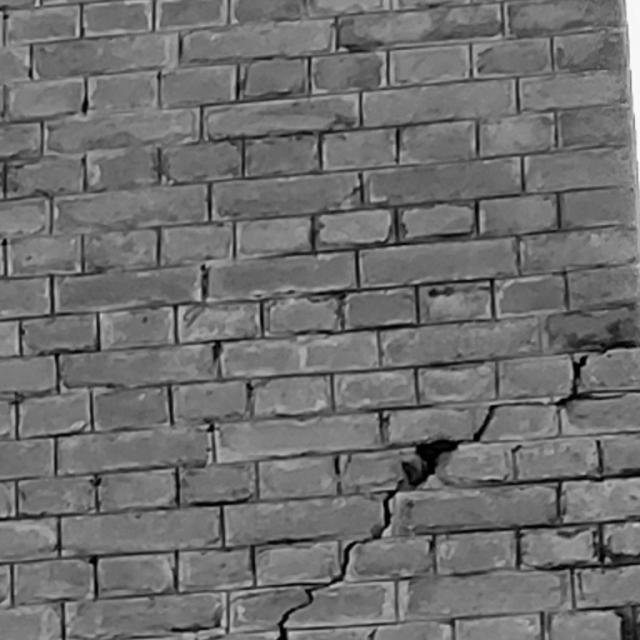crack: (276, 341, 639, 640)
